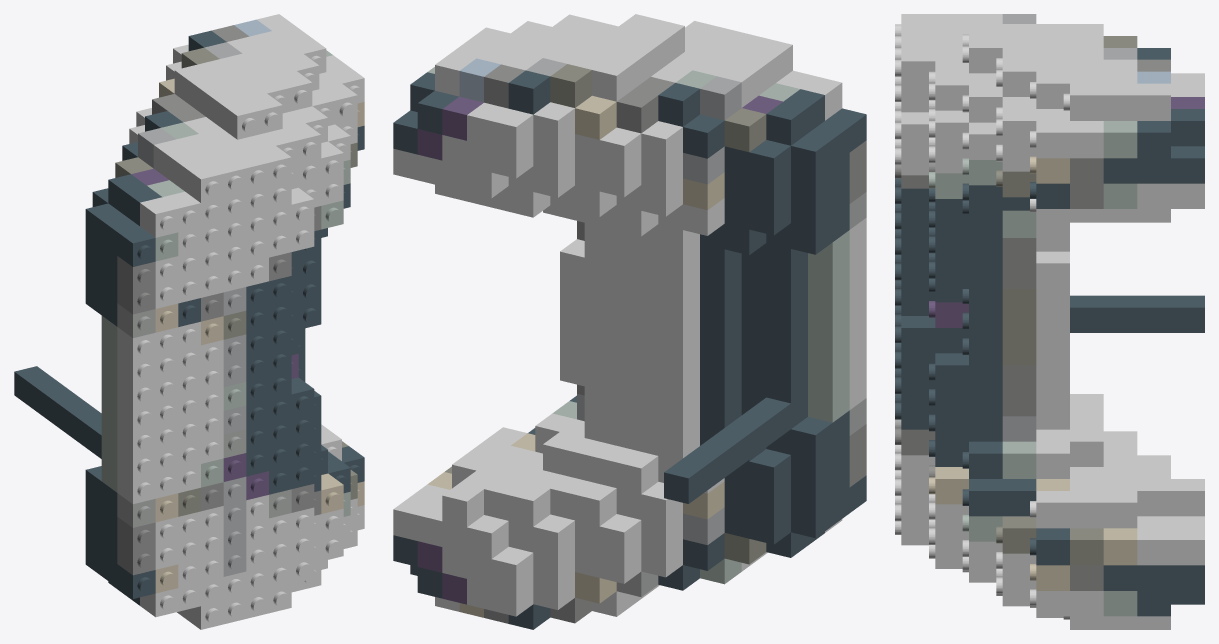
The model's file is full.glb.
3 renders of one model, left to right at view 1: azimuth 30°, elevation 25°; view 2: azimuth 150°, elevation 25°; view 3: azimuth 270°, elevation 25°, orthographic. The views are drawn at different scales.
Parts seen in each view (by area): view 1: world; view 2: world; view 3: world.
Boxes of the visible parts, x1,y1,x2,y2 form: world: [14, 14, 364, 629]; world: [393, 14, 866, 629]; world: [895, 14, 1204, 629].
Bounding box in the file's own units: 104 × 168 × 88.2.
